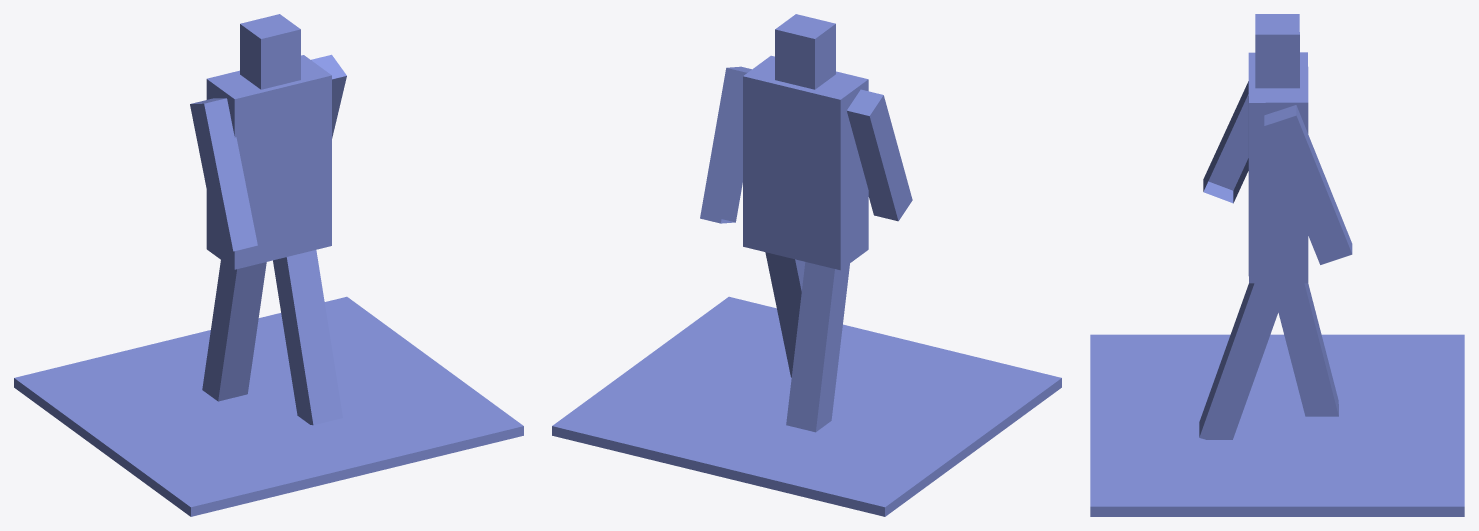
The model's file is pedestrian.glb.
3 renders of one model, left to right at view 1: azimuth 30°, elevation 25°; view 2: azimuth 150°, elevation 25°; view 3: azimuth 270°, elevation 25°, orthographic. The views are drawn at different scales.
Parts seen in each view (by area): view 1: pedestrian; view 2: pedestrian; view 3: pedestrian.
Boxes of the visible parts, x1,y1,x2,y2 form: pedestrian: (14, 14, 523, 516); pedestrian: (552, 14, 1061, 516); pedestrian: (1090, 14, 1464, 516).
Size of the model in its own units: 2 by 2.21 by 1.84.
